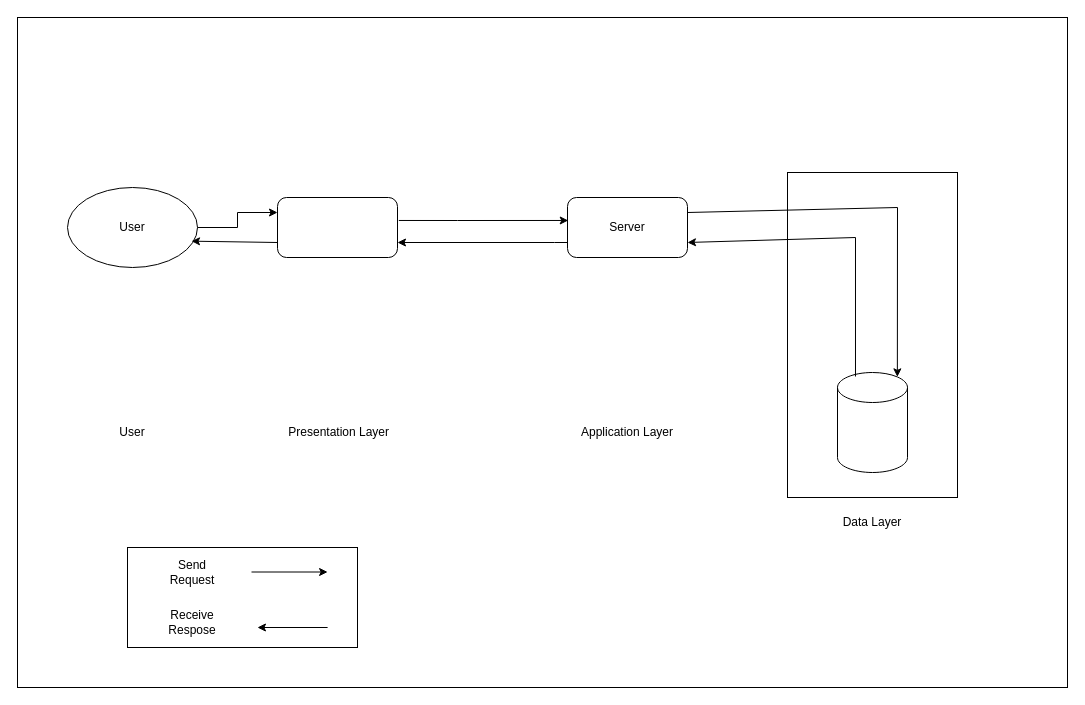
The diagram is 1085 pixels wide and 705 high, and some of its shapes have lost their labels. The shapes that lost their labels are listed below. From the top down, each one's box as (x1, y1, x2, y2) in pixels, then its label:
(276, 196, 398, 258): Frontend
(836, 372, 908, 472): Database
